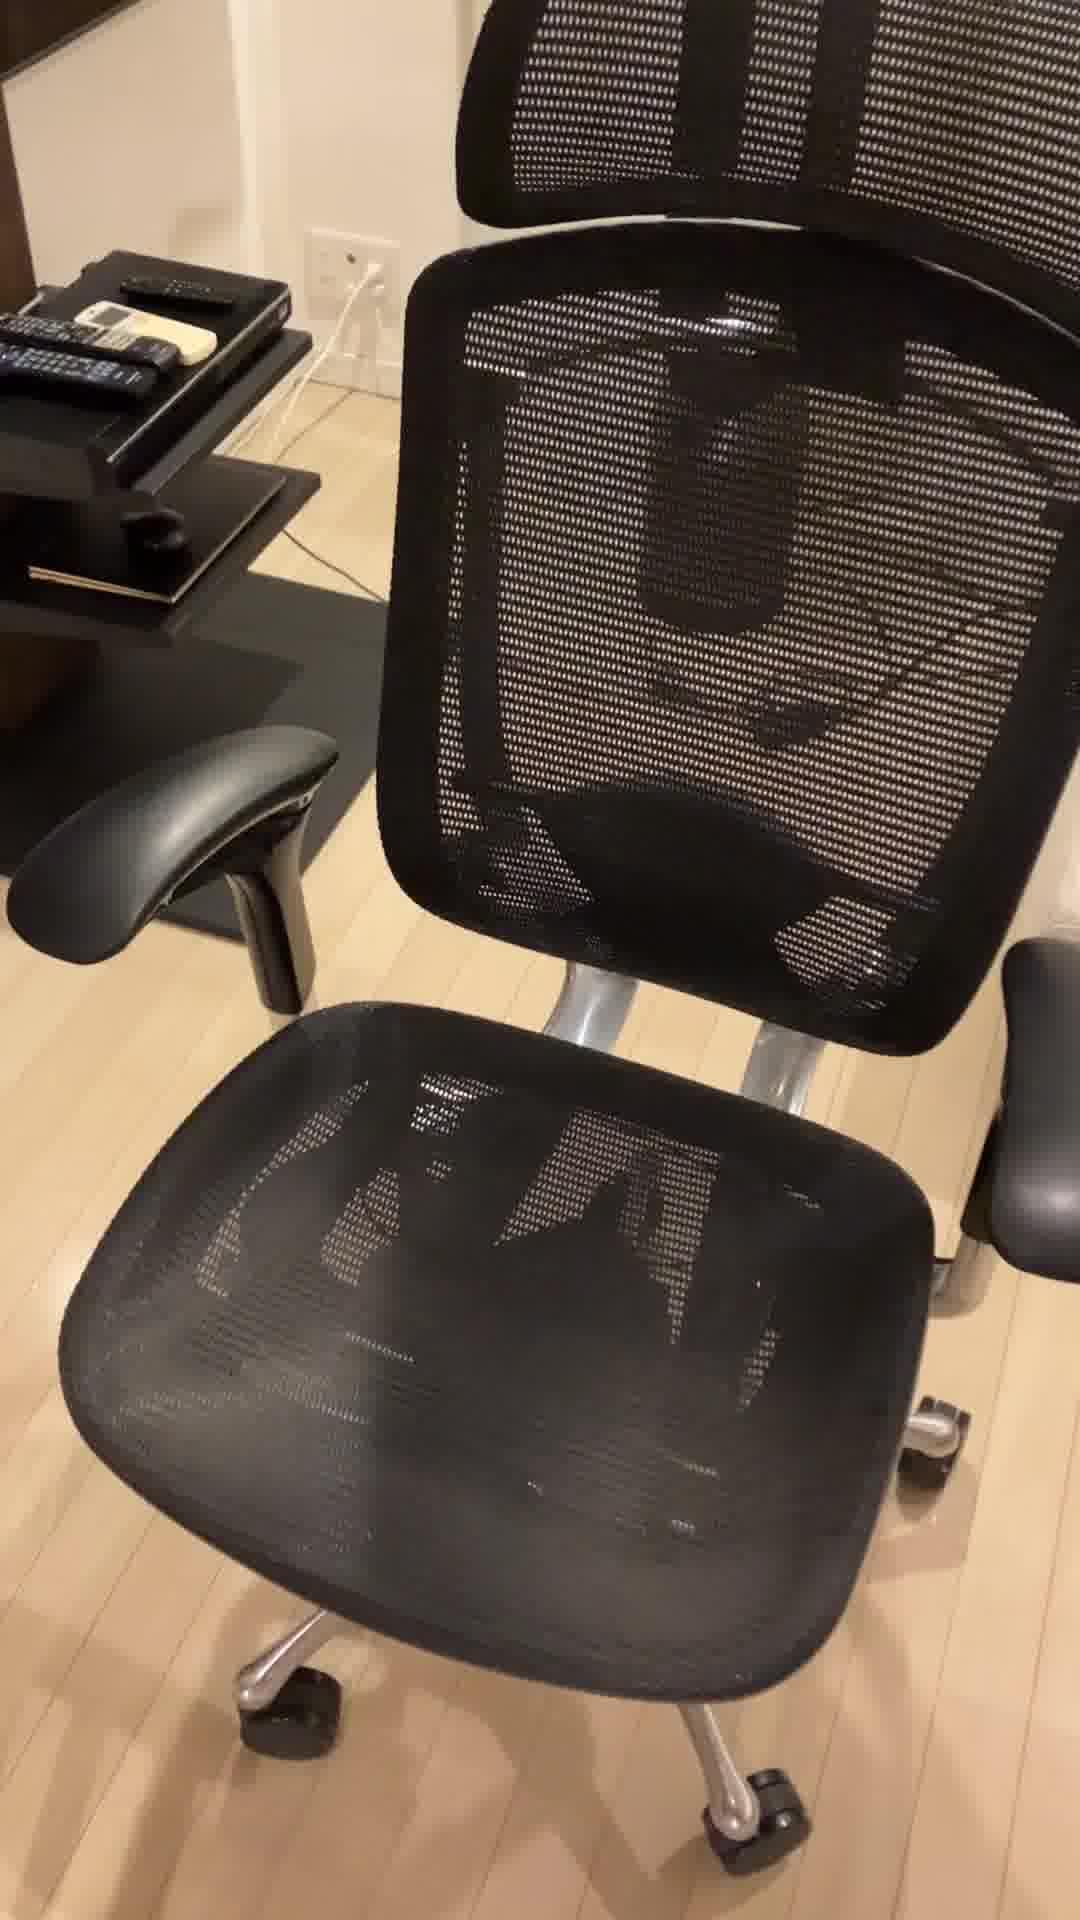okamura-contessa: (0, 0, 1080, 1878)
